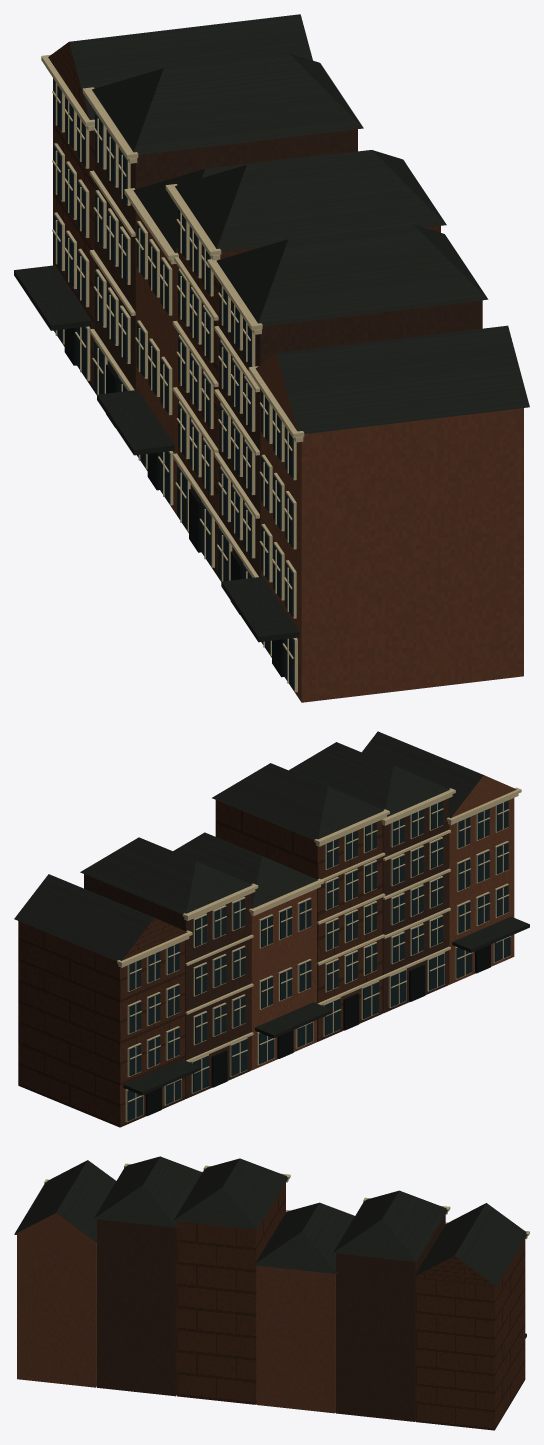
3 renders of one model, top to bottom at view 1: azimuth 30°, elevation 25°; view 2: azimuth 150°, elevation 25°; view 3: azimuth 270°, elevation 25°, orthographic. The views are drawn at different scales.
Parts seen in each view (by area): view 1: schiedamsedijk-noord-1, schiedamsedijk-noord-6, schiedamsedijk-noord-2, schiedamsedijk-noord-3, schiedamsedijk-noord-5, schiedamsedijk-noord-0, schiedamsedijk-noord-4; view 2: schiedamsedijk-noord-1, schiedamsedijk-noord-0, schiedamsedijk-noord-3, schiedamsedijk-noord-2, schiedamsedijk-noord-5, schiedamsedijk-noord-6, schiedamsedijk-noord-4; view 3: schiedamsedijk-noord-0, schiedamsedijk-noord-1, schiedamsedijk-noord-5, schiedamsedijk-noord-6.
Boxes of the visible parts, x1=… form: schiedamsedijk-noord-1: x1=14, y1=14, x2=529, y2=642; schiedamsedijk-noord-6: x1=136, y1=211, x2=523, y2=702; schiedamsedijk-noord-2: x1=41, y1=54, x2=304, y2=692; schiedamsedijk-noord-3: x1=53, y1=79, x2=294, y2=690; schiedamsedijk-noord-5: x1=94, y1=111, x2=482, y2=576; schiedamsedijk-noord-0: x1=48, y1=42, x2=440, y2=577; schiedamsedijk-noord-4: x1=64, y1=328, x2=284, y2=677; schiedamsedijk-noord-1: x1=14, y1=731, x2=529, y2=1095; schiedamsedijk-noord-0: x1=18, y1=800, x2=382, y2=1127; schiedamsedijk-noord-3: x1=127, y1=800, x2=510, y2=1121; schiedamsedijk-noord-2: x1=117, y1=787, x2=521, y2=1122; schiedamsedijk-noord-5: x1=84, y1=798, x2=448, y2=1098; schiedamsedijk-noord-6: x1=251, y1=775, x2=516, y2=1070; schiedamsedijk-noord-4: x1=145, y1=944, x2=490, y2=1115; schiedamsedijk-noord-0: x1=176, y1=1183, x2=525, y2=1430; schiedamsedijk-noord-1: x1=14, y1=1156, x2=527, y2=1338; schiedamsedijk-noord-5: x1=97, y1=1215, x2=445, y2=1421; schiedamsedijk-noord-6: x1=14, y1=1213, x2=335, y2=1413.
Bounding box in the file's own units: 25.73 × 21.6 × 49.88.
Materials: 7 (7 with a texture image).
